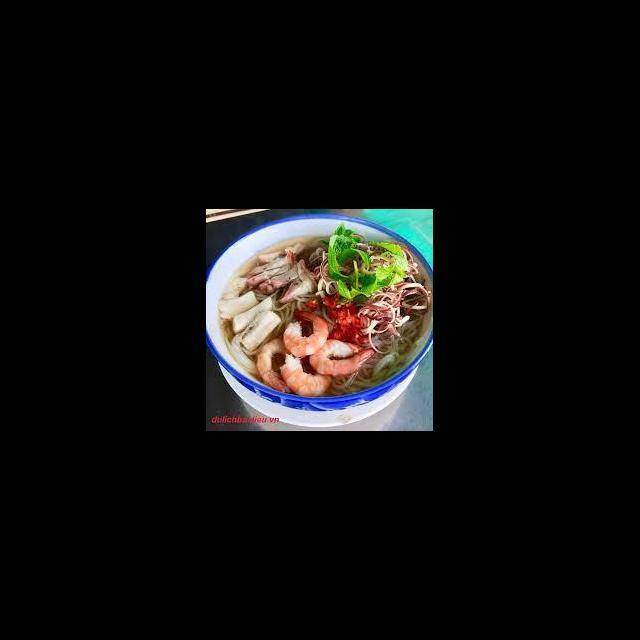bun: (328, 318, 427, 398), (222, 329, 262, 377)
ca: (230, 294, 276, 336), (240, 308, 282, 353), (217, 289, 260, 322)
thit heo quay: (244, 249, 298, 288), (258, 257, 312, 295), (276, 270, 321, 304)
tom: (308, 336, 378, 379), (278, 349, 336, 399), (280, 306, 332, 361), (254, 335, 300, 396)
